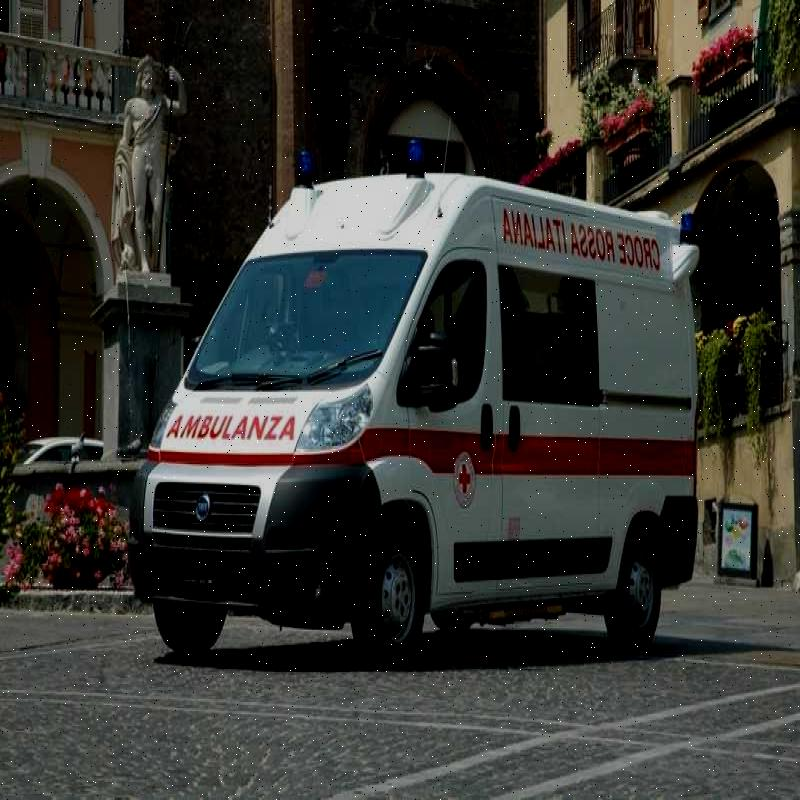AmbulanceSiren: (283, 140, 325, 208), (398, 123, 432, 183)
